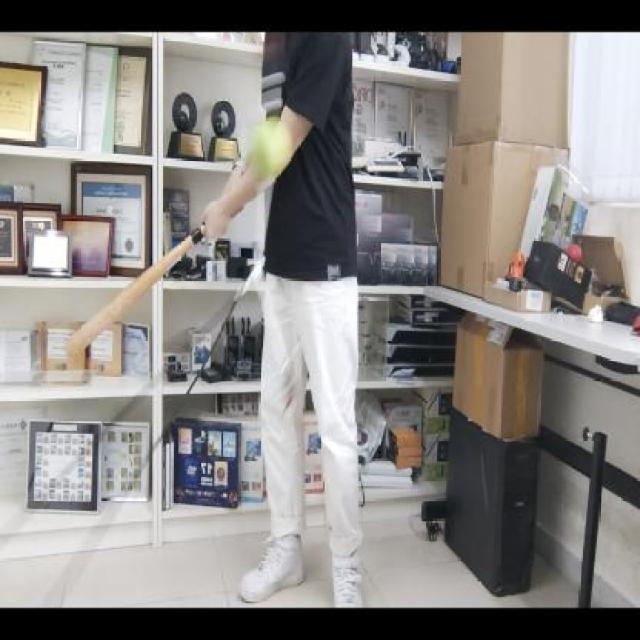baseball: (250, 114, 296, 180)
